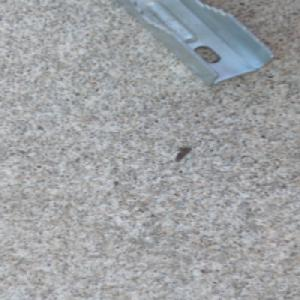ClampPart: (114, 0, 277, 88)
